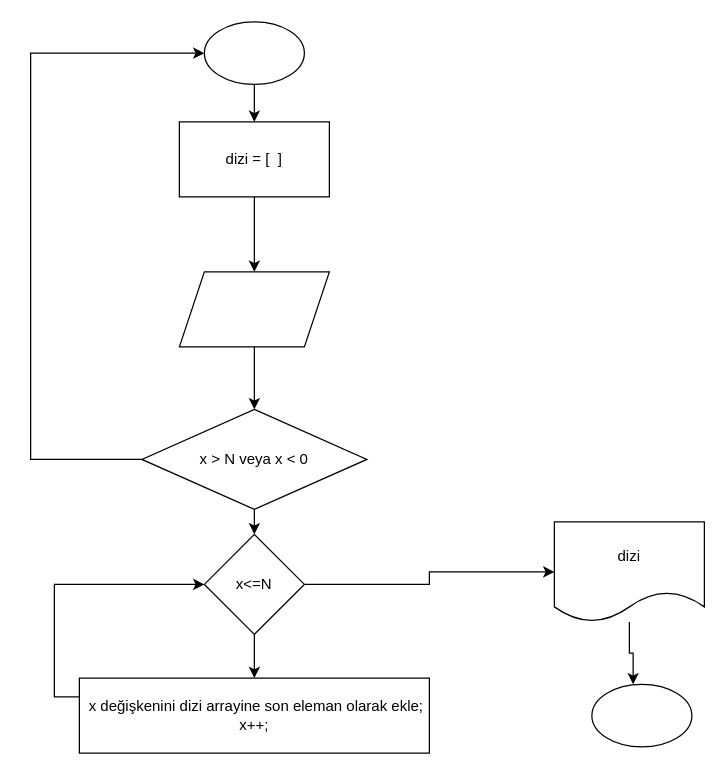
This 726x775 diagram has some shape labels left out. Here are the shapes that lost their labels. From the top down, the centre of each, then its label:
At point 253,52: "Giriş".
At point 253,309: "x, N;".
At point 641,715: "Bitiş".
